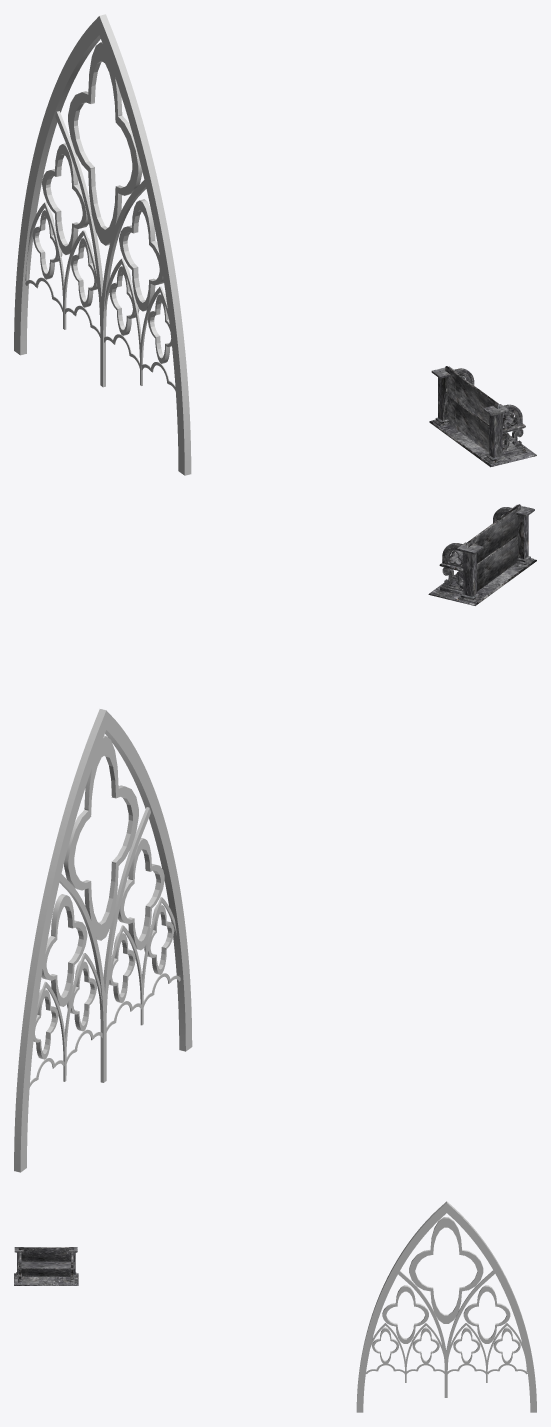
File: Figura_3_05.fbx
3 renders of one model, top to bottom at view 1: azimuth 30°, elevation 25°; view 2: azimuth 150°, elevation 25°; view 3: azimuth 270°, elevation 25°, orthographic. The views are drawn at different scales.
Visible parts, largest first — view 1: Box026, Box025, Cylinder004, Cylinder015, Cylinder016, Box012, Box020, Box019, Box014, Box013, Box001, Cylinder013 (+3 smaller); view 2: Box025, Box026, Cylinder004, Cylinder016, Cylinder015, Box020, Box012, Box014, Box013, Box019, Box001, Cylinder012 (+1 smaller); view 3: Box026, Box025, Cylinder004, Box014, Cylinder015, Cylinder016, Box001, Box020, Box005, Box019, Box013, Cylinder013 (+2 smaller).
Part boxes in pixels (x1,y1,x2,y2): Box026: (96, 14, 191, 475); Box025: (14, 16, 102, 355); Cylinder004: (68, 42, 142, 245); Cylinder015: (119, 199, 163, 311); Cylinder016: (42, 143, 88, 254); Box012: (431, 366, 508, 463); Box020: (100, 180, 146, 387); Box019: (55, 111, 103, 337); Box014: (445, 366, 499, 424); Box013: (448, 396, 489, 452); Box001: (429, 420, 536, 467); Cylinder013: (109, 266, 139, 335); Box025: (14, 709, 109, 1172); Box026: (103, 710, 192, 1051); Cylinder004: (64, 735, 138, 940); Cylinder016: (41, 894, 87, 1006); Cylinder015: (118, 838, 164, 950); Box020: (100, 807, 150, 1082); Box012: (457, 504, 534, 602); Box014: (466, 504, 520, 563); Box013: (477, 535, 517, 591); Box019: (59, 874, 106, 1033); Box001: (428, 559, 536, 605); Cylinder012: (67, 961, 96, 1031); Box026: (356, 1201, 450, 1412); Box025: (443, 1201, 536, 1412); Cylinder004: (409, 1217, 483, 1323); Box014: (18, 1247, 73, 1261); Cylinder015: (382, 1285, 428, 1343); Cylinder016: (463, 1285, 510, 1343); Box001: (14, 1273, 78, 1285); Box020: (398, 1271, 447, 1397); Box005: (17, 1261, 74, 1269); Box019: (444, 1270, 494, 1372); Box013: (21, 1269, 70, 1276); Cylinder013: (412, 1327, 439, 1364).
Size of the model in its own units: 35428 by 290283 by 655540.
13 materials, 13 textured.
